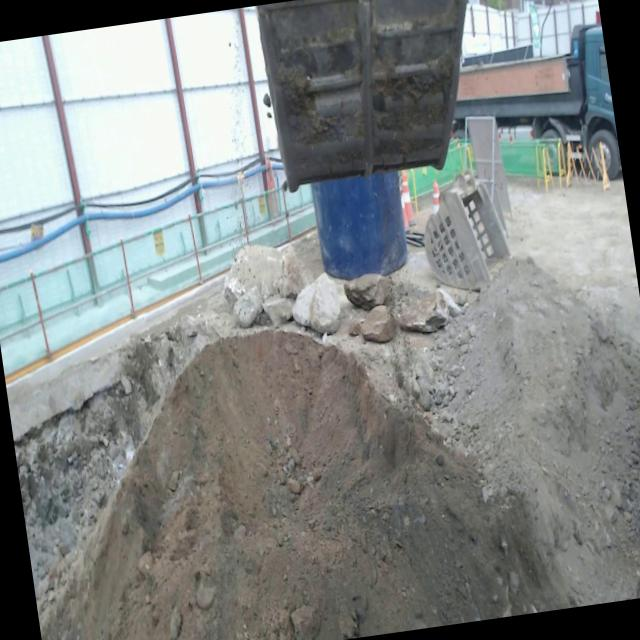red-sand: (57, 330, 540, 640)
rocks: (223, 243, 343, 334)
stone: (224, 244, 312, 303), (293, 273, 341, 333), (394, 293, 447, 333), (344, 274, 391, 310), (359, 305, 396, 343), (233, 288, 263, 328), (263, 296, 294, 325)
white-sand: (440, 259, 640, 608)
